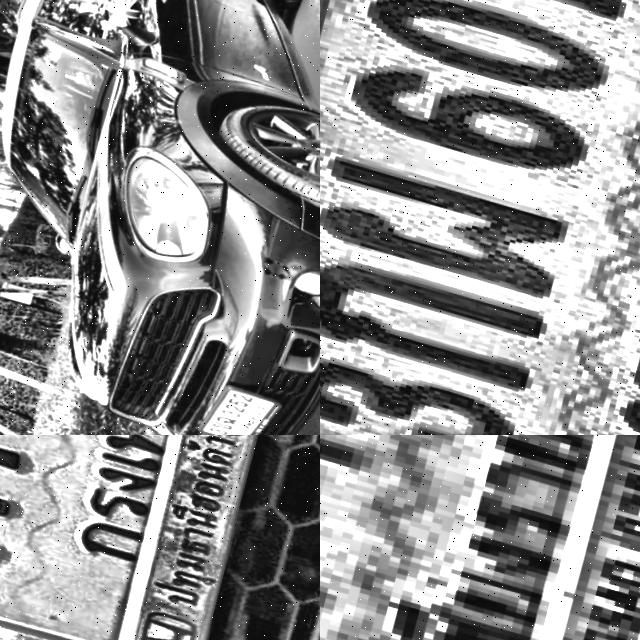license-plate: (320, 0, 640, 435), (0, 435, 320, 640), (320, 435, 640, 640), (194, 373, 284, 435)
